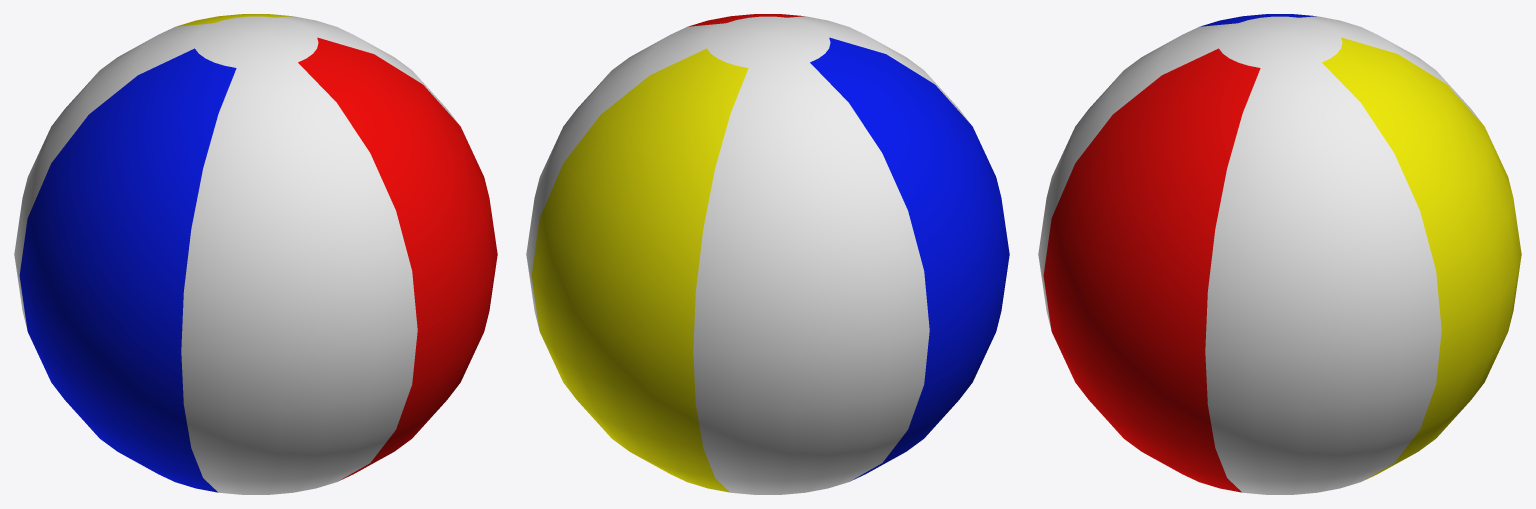
The model's file is beachball.glb.
3 renders of one model, left to right at view 1: azimuth 30°, elevation 25°; view 2: azimuth 150°, elevation 25°; view 3: azimuth 270°, elevation 25°, orthographic.
Parts seen in each view (by area): view 1: BeachBall; view 2: BeachBall; view 3: BeachBall.
Boxes of the visible parts, x1,y1,x2,y2 form: BeachBall: (14, 14, 497, 494); BeachBall: (526, 14, 1009, 494); BeachBall: (1038, 14, 1521, 494).
Bounding box in the file's own units: 1.99 × 2 × 2.
